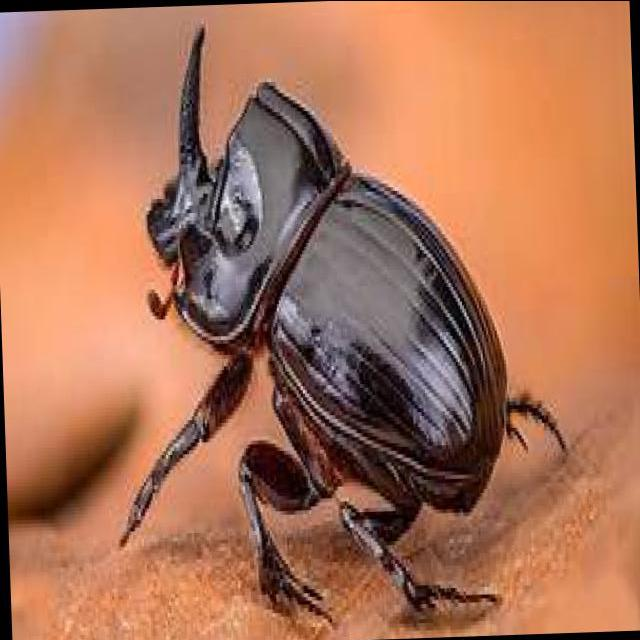Rhino-beetle: (116, 29, 562, 610)
